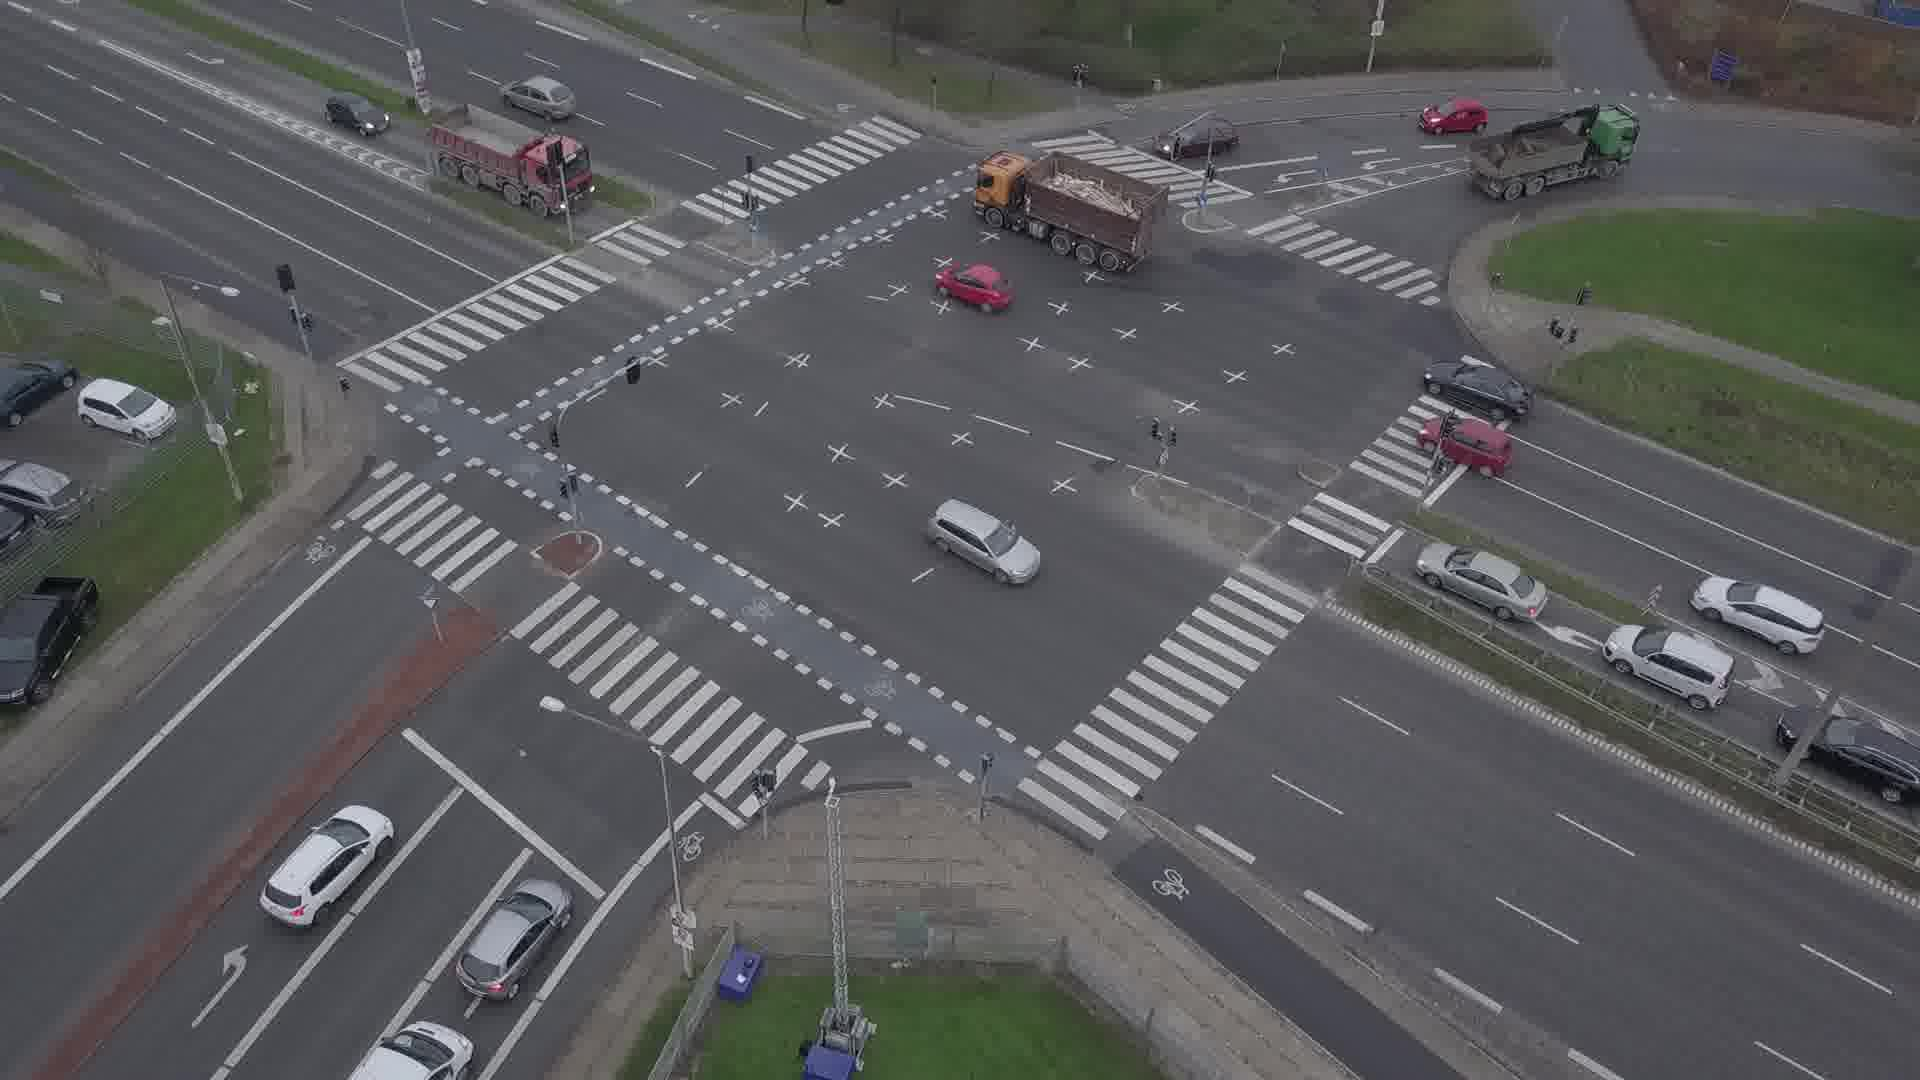car: (259, 806, 395, 927), (455, 878, 573, 1001), (1776, 705, 1920, 803), (1601, 623, 1736, 711), (1414, 542, 1547, 623), (1691, 575, 1824, 654), (928, 497, 1041, 584), (1424, 360, 1537, 420), (1418, 415, 1516, 478), (935, 263, 1015, 313), (498, 75, 577, 121), (324, 91, 390, 138), (1157, 121, 1239, 158), (1420, 97, 1488, 135)
lorry: (975, 150, 1170, 272), (426, 103, 595, 217), (1472, 103, 1640, 202), (343, 1020, 474, 1080)
